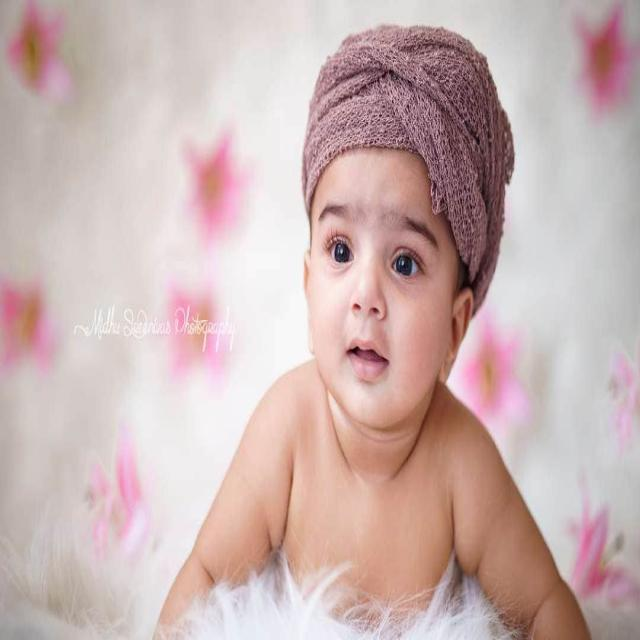non-dog: (150, 23, 594, 640)
